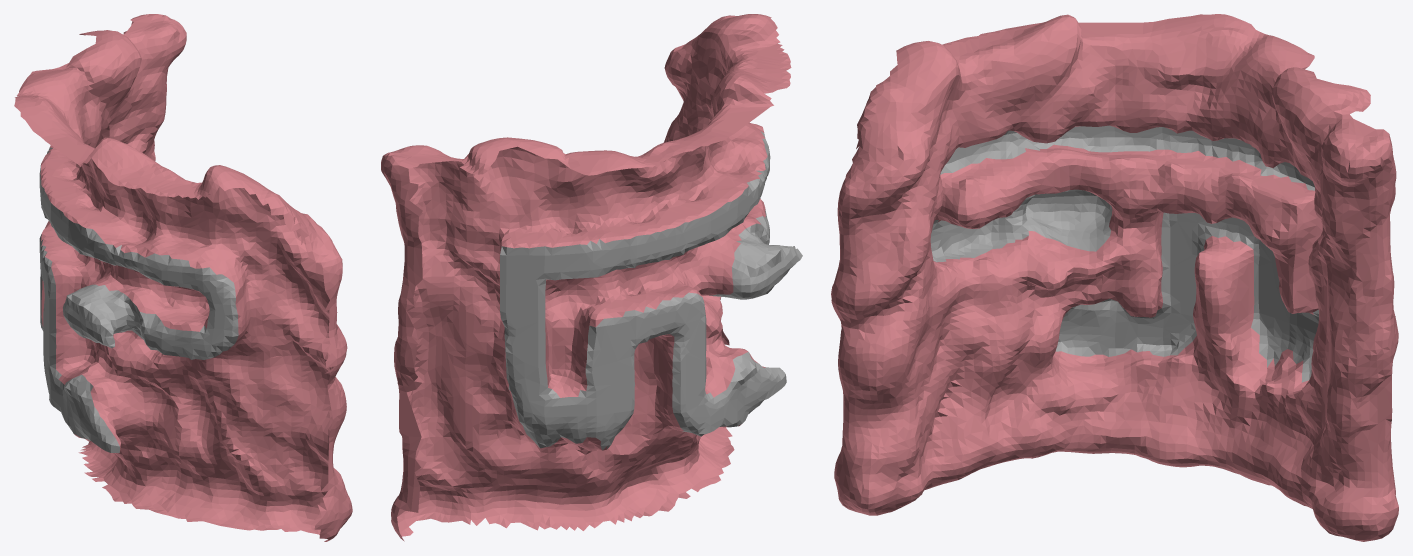
The model's file is MazeWallCave.dae.
The picture shows the model from 3 angles, left to right: view 1: azimuth 30°, elevation 25°; view 2: azimuth 150°, elevation 25°; view 3: azimuth 270°, elevation 25°; orthographic projection. The views are drawn at different scales.
Parts seen in each view (by area): view 1: MazeWallCave; view 2: MazeWallCave; view 3: MazeWallCave.
Part boxes in pixels (left/top/right/bottom): MazeWallCave: left=14, top=14, right=352, bottom=541; MazeWallCave: left=381, top=14, right=802, bottom=541; MazeWallCave: left=831, top=14, right=1398, bottom=541.
Size of the model in its own units: 1.43 by 2.59 by 2.18.
